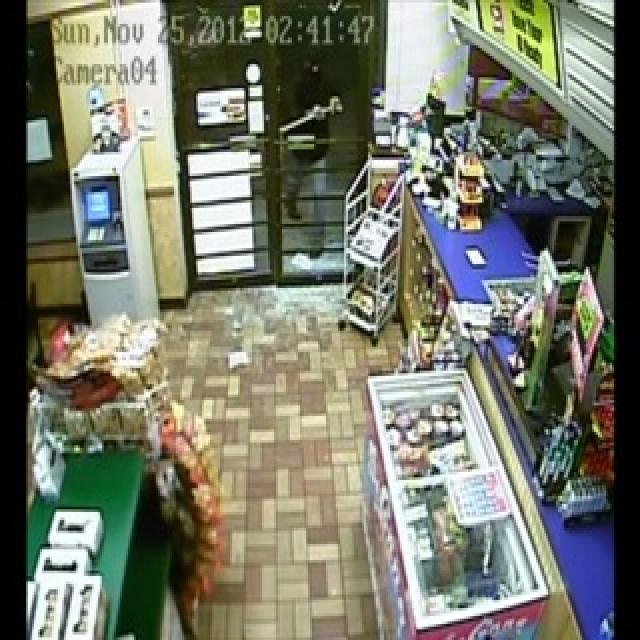thief: (284, 56, 338, 260)
